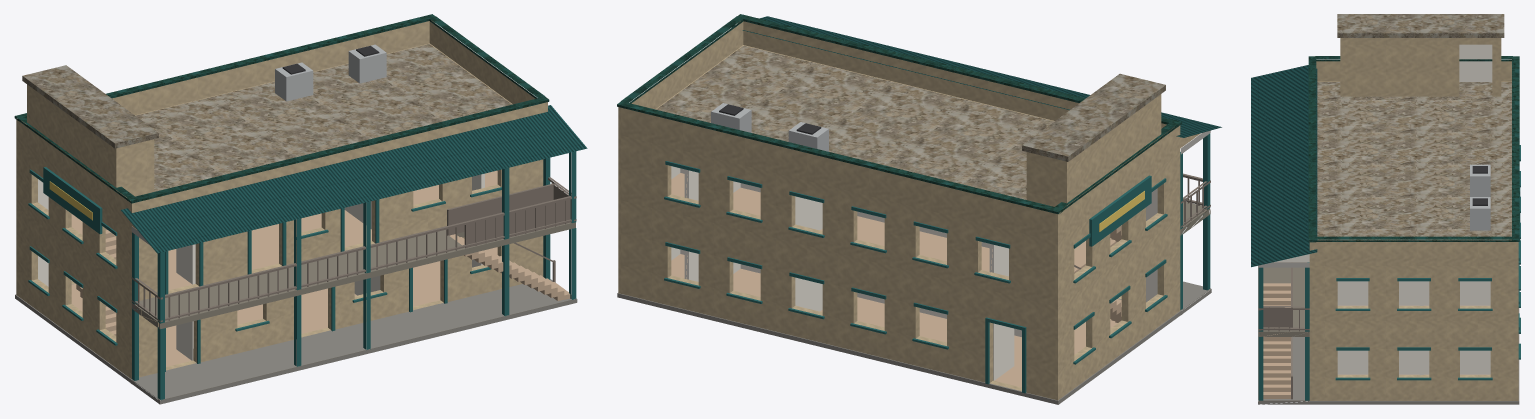
File: cr-motor-court.towns-v2.lod0.glb
3 renders of one model, left to right at view 1: azimuth 30°, elevation 25°; view 2: azimuth 150°, elevation 25°; view 3: azimuth 270°, elevation 25°, orthographic. The views are drawn at different scales.
Parts seen in each view (by area): view 1: cr-motor-court; view 2: cr-motor-court; view 3: cr-motor-court.
Part boxes in pixels (left/top/right/bottom): cr-motor-court: left=14, top=14, right=587, bottom=404; cr-motor-court: left=617, top=14, right=1221, bottom=404; cr-motor-court: left=1251, top=14, right=1520, bottom=404.
Size of the model in its own units: 17.6 by 8.98 by 10.59.
6 materials, 3 textured.
